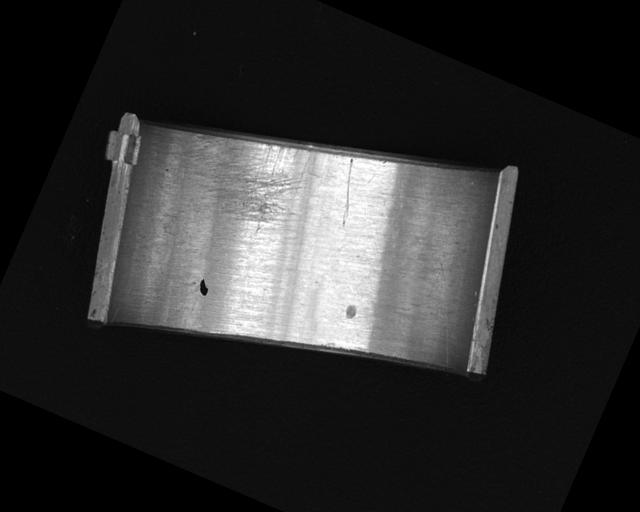blot: (195, 276, 212, 296)
bruise: (343, 303, 359, 321)
nick: (402, 261, 483, 367), (324, 156, 371, 227)
scratch: (169, 103, 324, 243)
